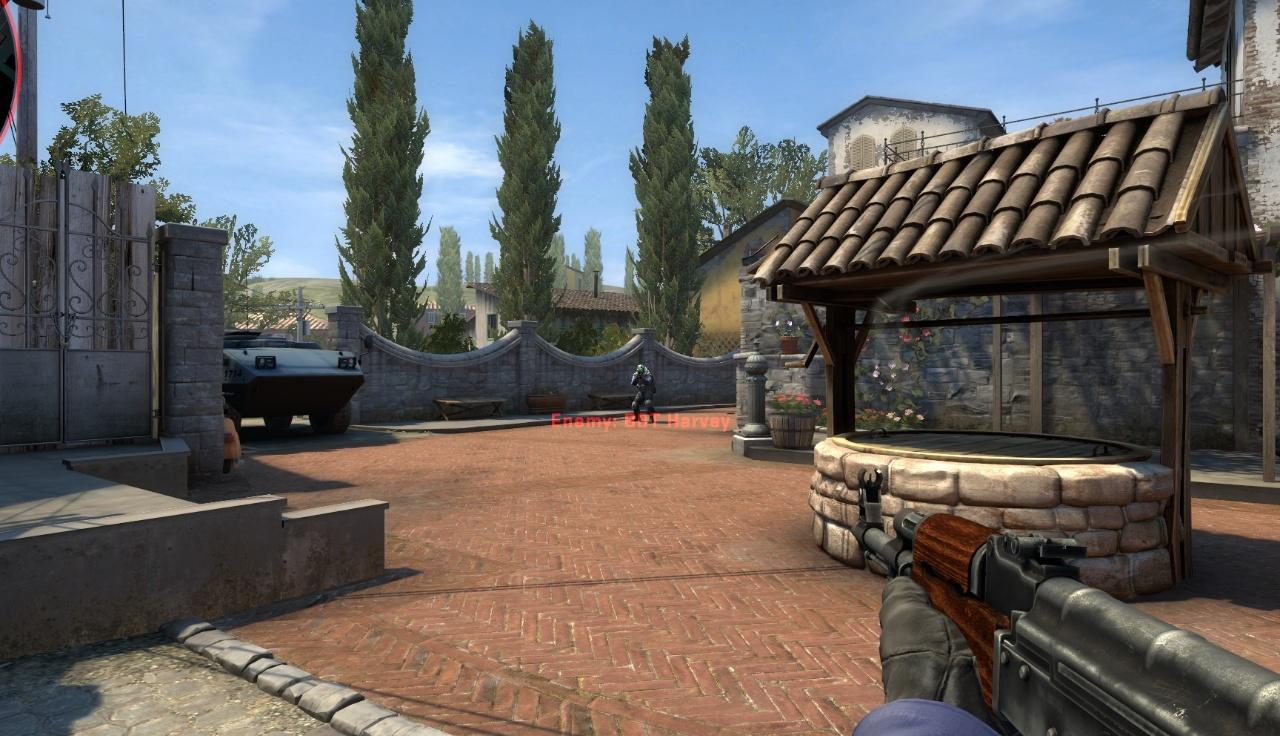ct: (632, 363, 658, 422)
cthead: (637, 363, 646, 376)
rifle: (860, 469, 1280, 732)
